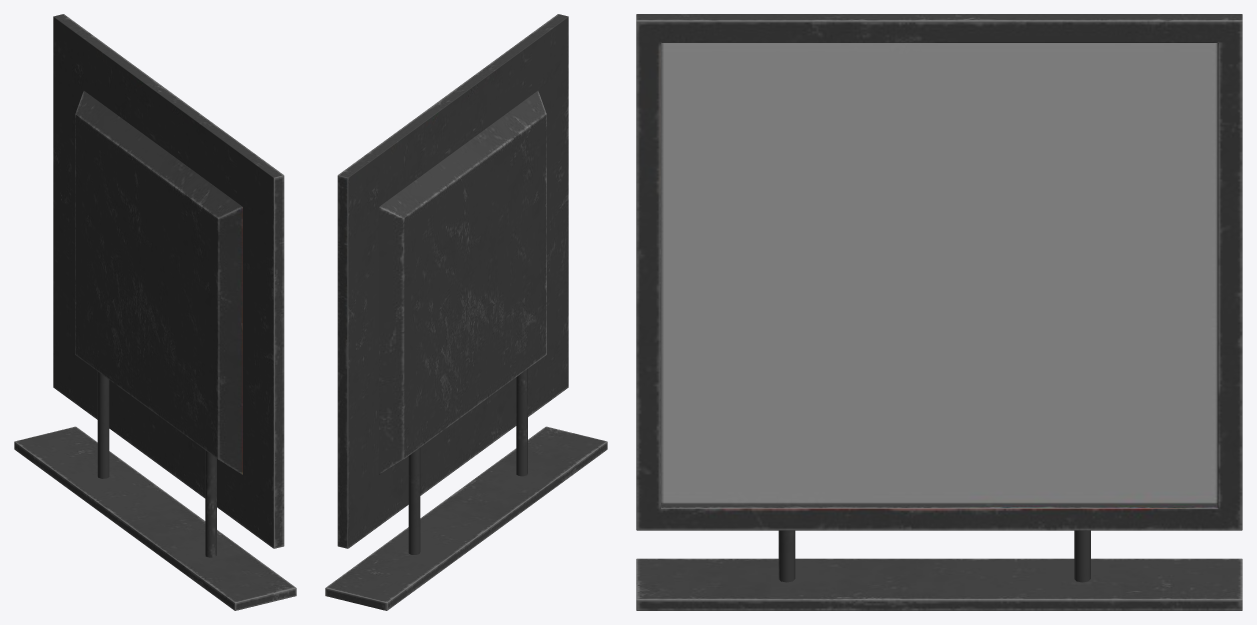
Rendered from AD Sign.fbx.
3 renders of one model, left to right at view 1: azimuth 30°, elevation 25°; view 2: azimuth 150°, elevation 25°; view 3: azimuth 270°, elevation 25°, orthographic. The views are drawn at different scales.
Parts seen in each view (by area): view 1: AD Sign.001, AD Sign; view 2: AD Sign.001, AD Sign; view 3: AD Sign.001, AD Sign.
Boxes of the visible parts, x1,y1,x2,y2 form: AD Sign.001: (53, 14, 284, 548); AD Sign: (14, 371, 296, 610); AD Sign.001: (337, 14, 568, 548); AD Sign: (325, 369, 607, 610); AD Sign.001: (636, 14, 1242, 530); AD Sign: (636, 530, 1242, 610).
Bounding box in the file's own units: 0.3236 × 2.12 × 2.
Materials: 1 (1 with a texture image).
